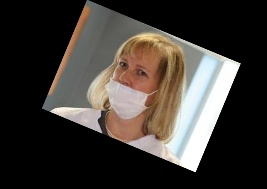mask_weared_incorrect: (109, 45, 166, 117)
